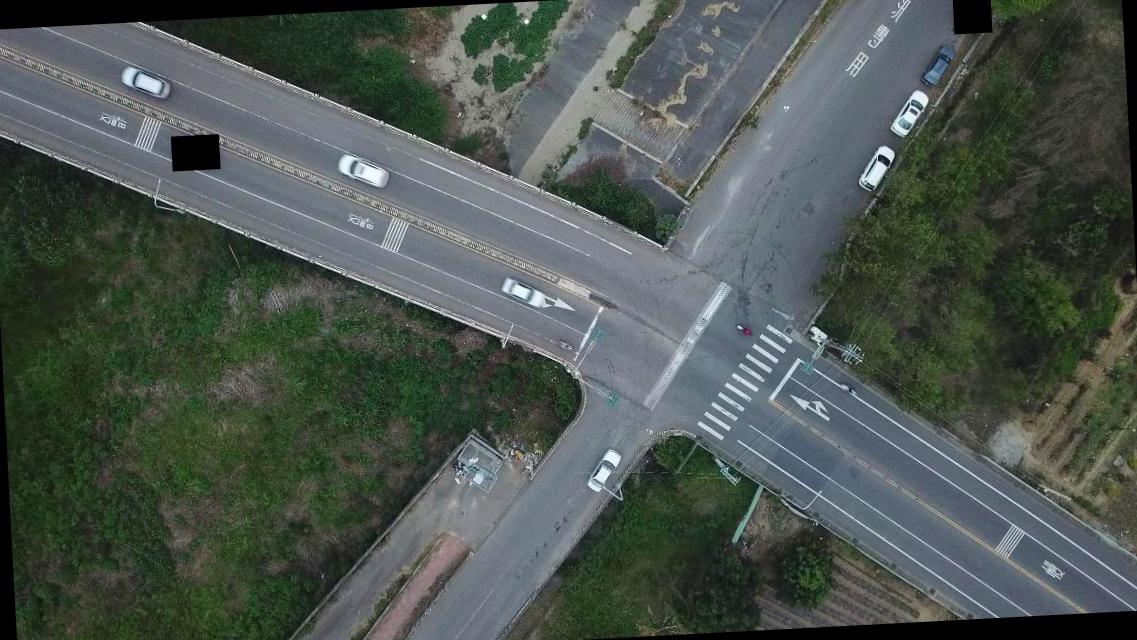vehicle: (120, 62, 172, 104), (336, 151, 391, 190), (857, 144, 898, 196), (888, 90, 930, 139), (585, 447, 625, 492), (920, 44, 956, 89), (502, 276, 546, 310)
